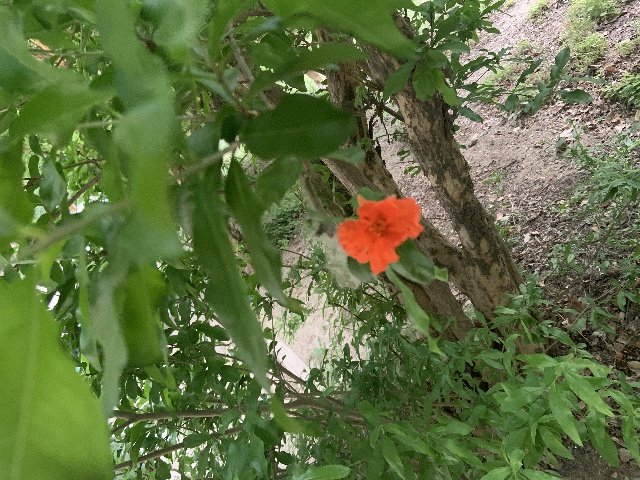flower: (336, 193, 423, 275)
